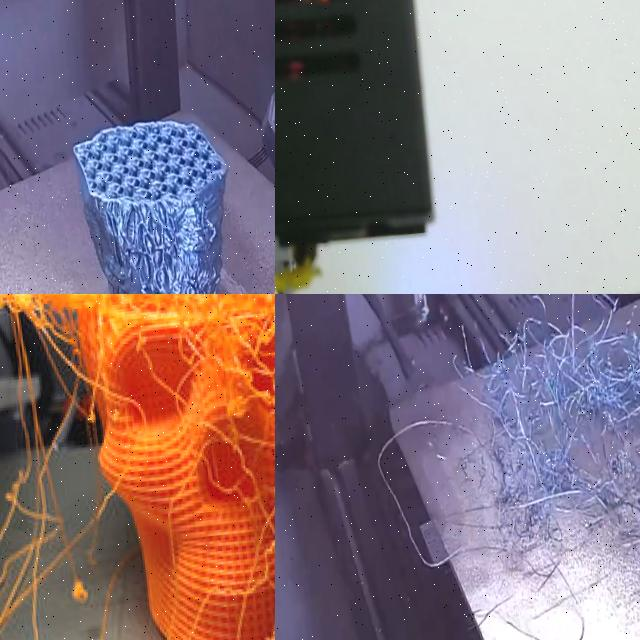spaghetti: (0, 294, 275, 640), (455, 311, 640, 588), (0, 294, 123, 640)
